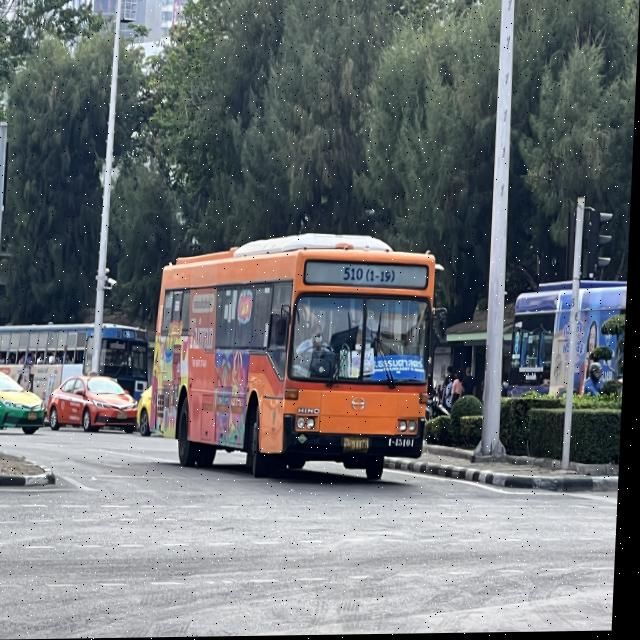BMTA-bus: (156, 236, 441, 484)
Bus Line Number: (340, 262, 402, 289)
Bus Side Number: (388, 435, 424, 451)
Destination Sign: (374, 354, 432, 384)
